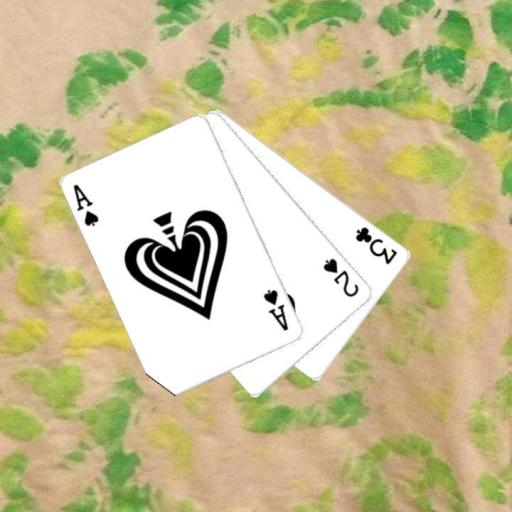2S: (320, 255, 361, 299)
3C: (353, 223, 400, 266)
AS: (70, 181, 101, 228), (260, 287, 290, 333)
